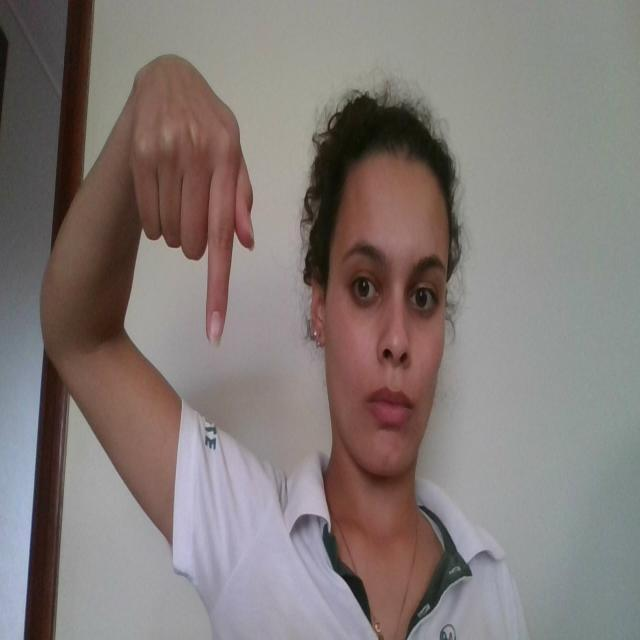Q: (130, 48, 257, 350)
